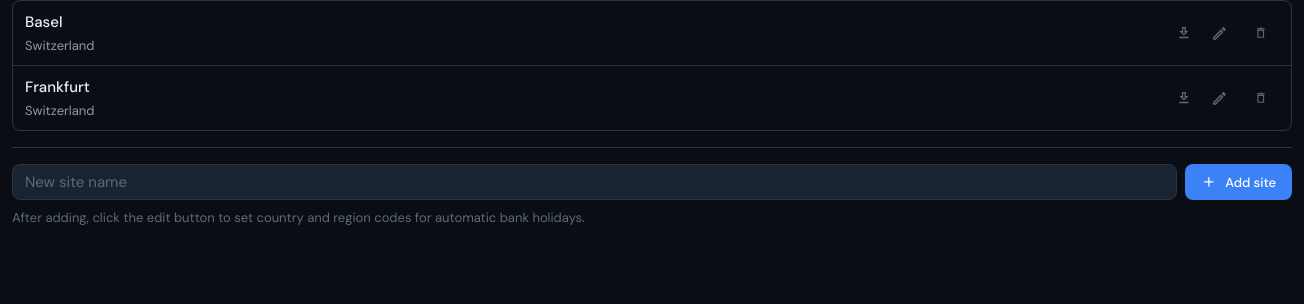
Test: SitesPanel delete › shows the server's refusal of the last active site in place
The width and height of the screenshot is (1304, 304).
Click the button named "Delete Frankfurt" at x=1260, y=98, box [1242,84,1279,112]
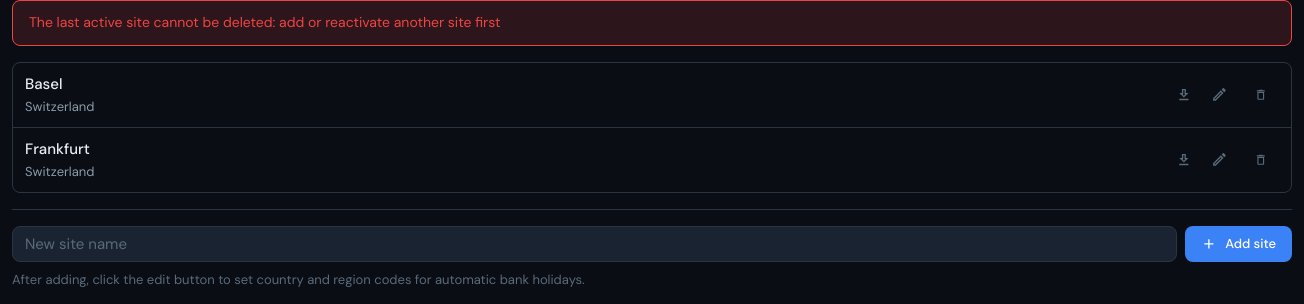
Expected: the button named "Delete Frankfurt" is enabled, [1242,146,1279,174]
Expected: the message shows "The last active site cannot be deleted", [29,13,500,31]
